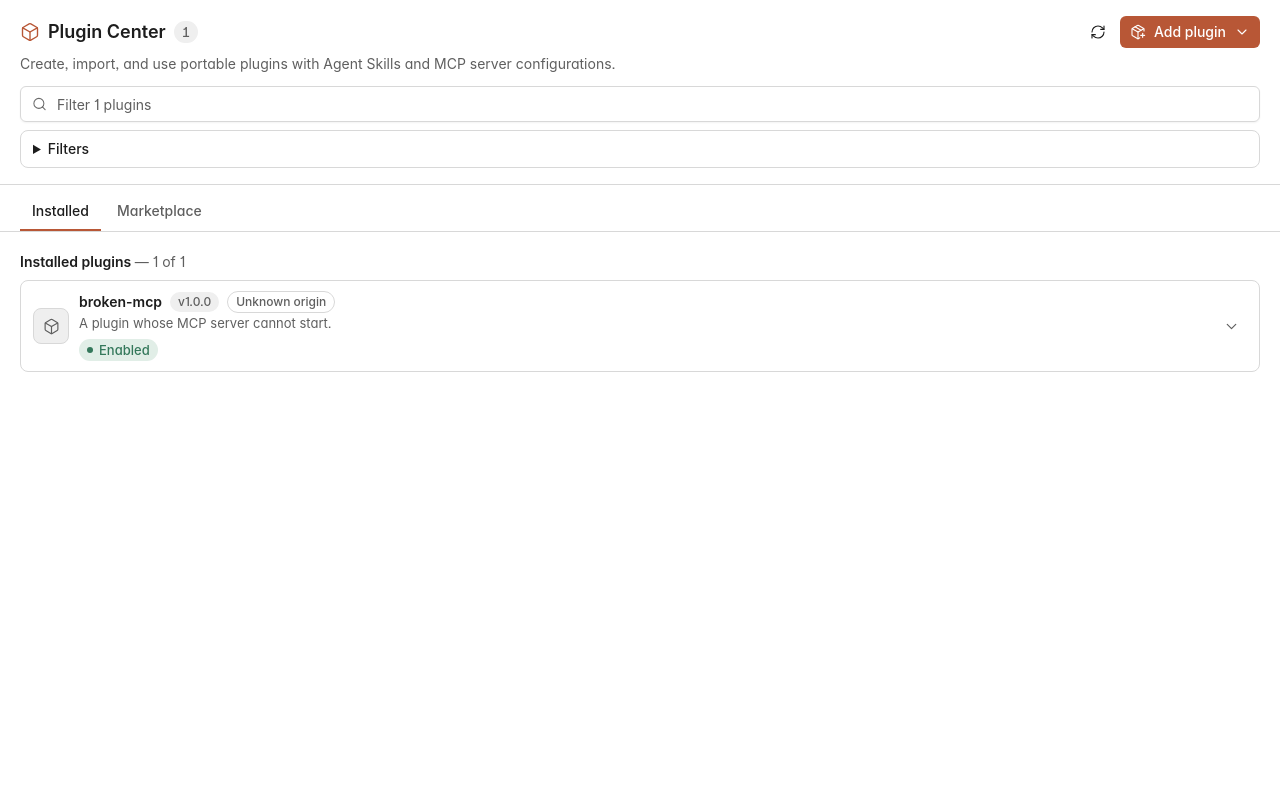
Test: PluginCenterPanel health status › keeps installed package contents behind a compact keyboard-accessible disclosure
The width and height of the screenshot is (1280, 800).
Click the button "broken-mcp": point(51, 326) [21,281,1259,371]
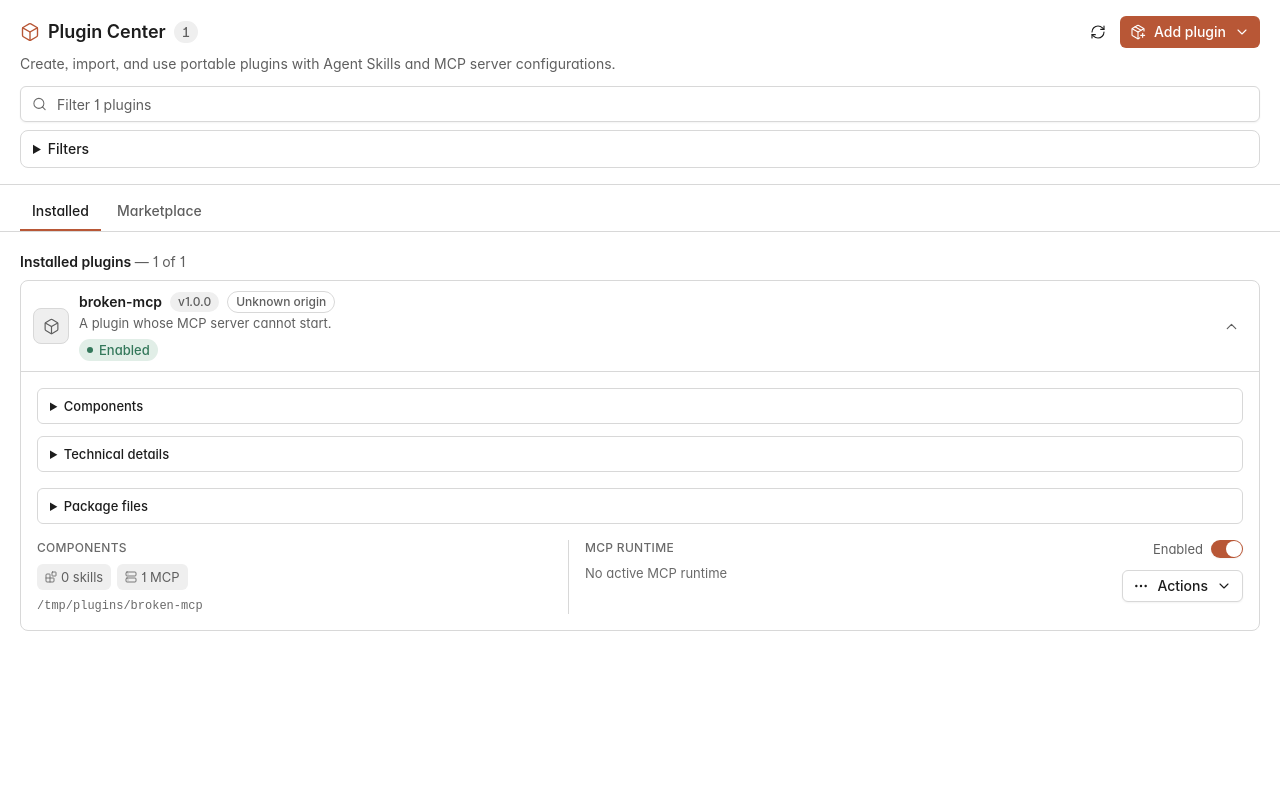
Now the button "broken-mcp" is expanded, box [21,281,1259,371]
Now the element named "Package contents for broken-mcp" is shown, box [37,388,1243,524]
